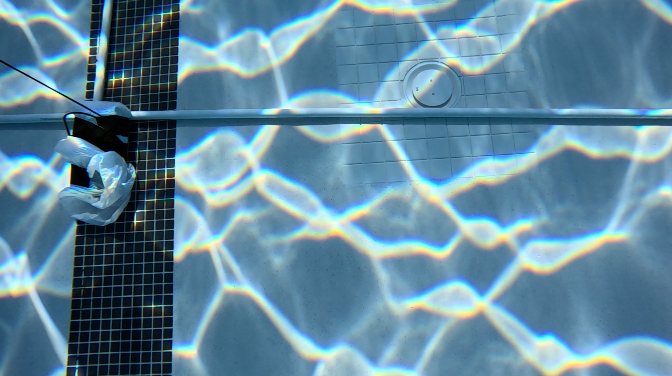sandbag: (68, 103, 131, 225)
